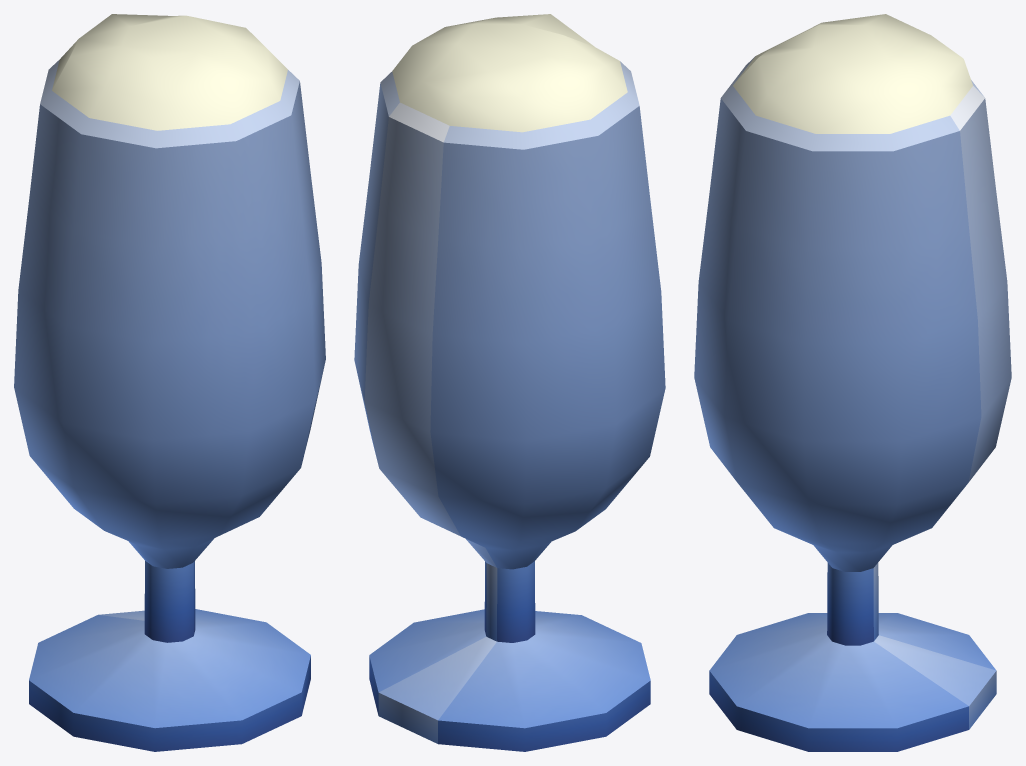
The model's file is m_PilsBeer01.fbx.
3 renders of one model, left to right at view 1: azimuth 30°, elevation 25°; view 2: azimuth 150°, elevation 25°; view 3: azimuth 270°, elevation 25°, orthographic.
Visible parts, largest first — view 1: m_PilsBeer01; view 2: m_PilsBeer01; view 3: m_PilsBeer01.
Boxes of the visible parts, x1,y1,x2,y2 form: m_PilsBeer01: (14,14,325,751); m_PilsBeer01: (354,14,665,751); m_PilsBeer01: (694,14,1011,751).
Bounding box in the file's own units: 11.57 × 27.53 × 12.16.
